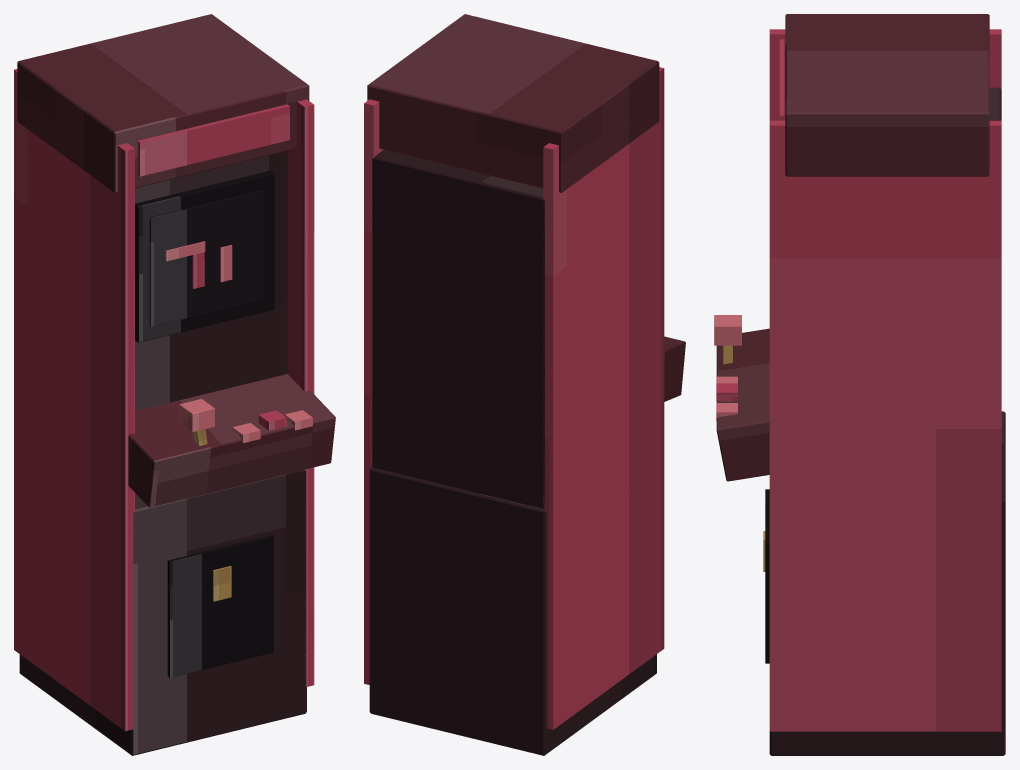
The model's file is arcade_cabinet_burgundy.glb.
The picture shows the model from 3 angles, left to right: view 1: azimuth 30°, elevation 25°; view 2: azimuth 150°, elevation 25°; view 3: azimuth 270°, elevation 25°; orthographic projection. The views are drawn at different scales.
Visible parts, largest first — view 1: EdgeTrim_L, CabinetBase, Marquee, ControlDeck, CabinetUpper, CoinDoor, ScreenGlass, EdgeTrim_R, ScreenRecess, MarqueeFace, JoystickTop, CoinSlot; view 2: EdgeTrim_L, CabinetUpper, CabinetBase, Marquee, EdgeTrim_R, ControlDeck; view 3: EdgeTrim_R, Marquee, CabinetBase, ControlDeck, EdgeTrim_L, CoinDoor, JoystickTop.
Part boxes in pixels (x1,y1,x2,y2): EdgeTrim_L: (14,69,134,731); CabinetBase: (19,470,306,755); Marquee: (17,14,309,192); ControlDeck: (128,374,335,507); CabinetUpper: (135,151,287,493); CoinDoor: (167,535,273,677); ScreenGlass: (149,190,264,327); EdgeTrim_R: (287,99,314,686); ScreenRecess: (135,170,274,342); MarqueeFace: (137,104,289,176); JoystickTop: (179,399,214,432); CoinSlot: (213,566,231,601); EdgeTrim_L: (543,67,664,729); CabinetUpper: (372,150,544,508); CabinetBase: (369,467,656,755); Marquee: (367,14,659,192); EdgeTrim_R: (364,99,383,684); ControlDeck: (664,336,685,401); EdgeTrim_R: (769,120,1001,731); Marquee: (785,14,989,176); CabinetBase: (769,411,1005,755); ControlDeck: (716,328,769,481); EdgeTrim_L: (769,29,1001,120); CoinDoor: (765,489,769,663); JoystickTop: (714,315,741,345).
Size of the model in its own units: 0.6 by 1.82 by 0.74.
1 material, 1 textured.
